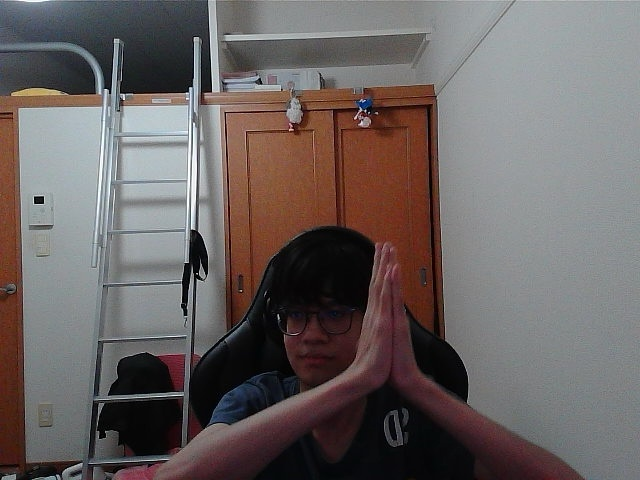pray: (365, 263, 390, 363)
